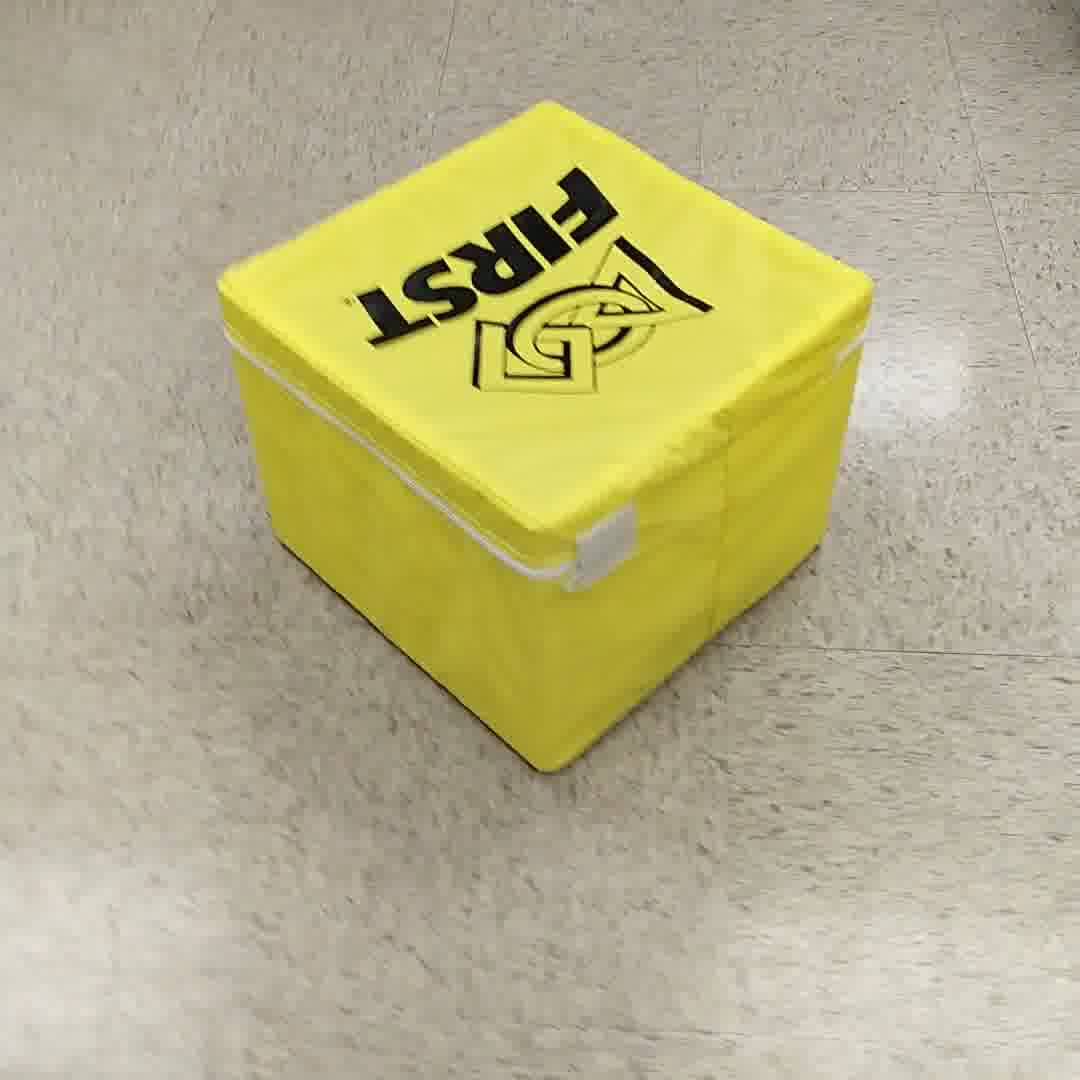box: (205, 80, 868, 773)
